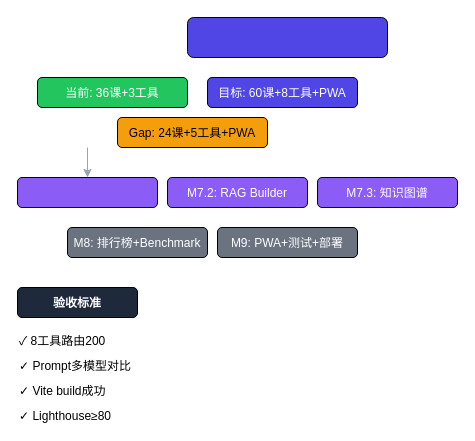
The diagram is 475 pixels wide and 441 high, and some of its shapes have lost their labels. Here are the shapes that lost their labels. From the top down, the centre of each, then its label:
At point 287,37: "M7 阶段开发计划".
At point 87,192: "M7.1: Prompt Playground".
